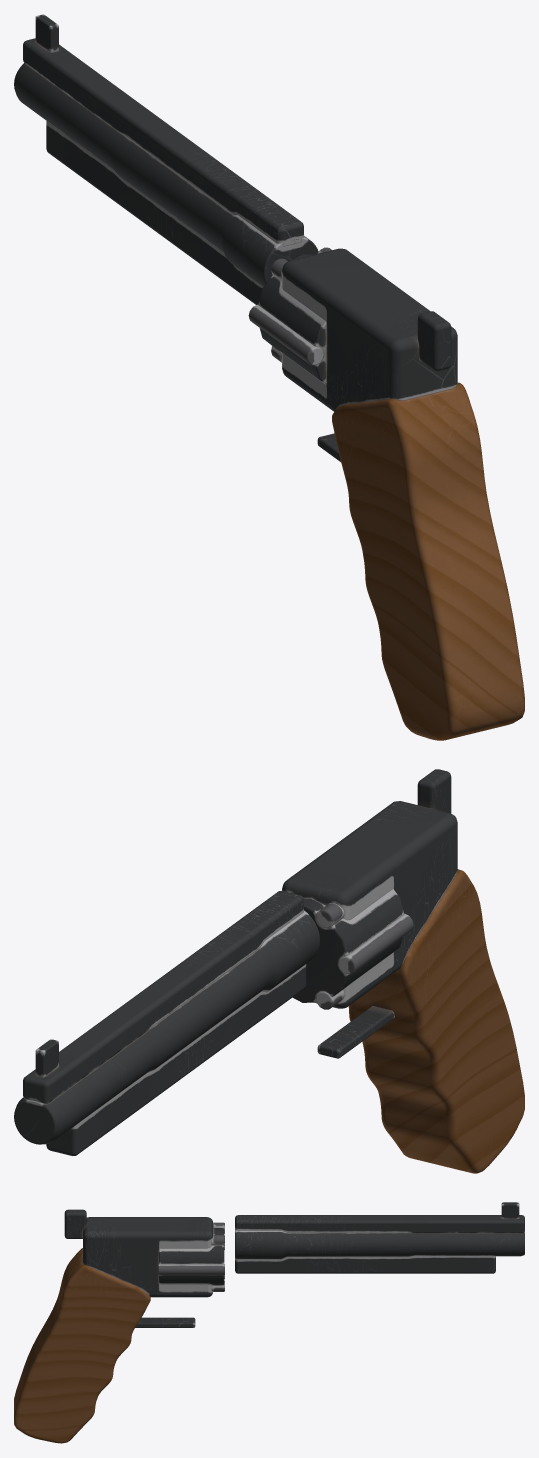
Rendered from magnum.gltf.
3 renders of one model, top to bottom at view 1: azimuth 30°, elevation 25°; view 2: azimuth 150°, elevation 25°; view 3: azimuth 270°, elevation 25°, orthographic. The views are drawn at different scales.
Visible parts, largest first — view 1: Frame; view 2: Frame; view 3: Frame.
Boxes of the visible parts, x1,y1,x2,y2 form: Frame: (14, 14, 524, 740); Frame: (14, 769, 524, 1173); Frame: (14, 1202, 524, 1443).
Size of the model in its own units: 0.048 by 0.1758 by 0.3525.
Materials: 4 (4 with a texture image).
